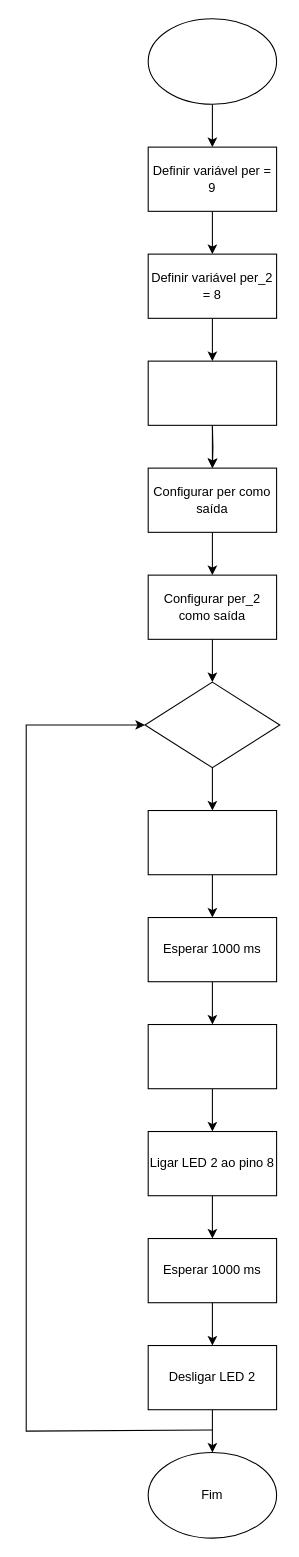
Image size: 299x1557. Some labels were removed from this diagram. Here are the shapes that lost their labels. From the top down, the box of each, then its label:
(147, 18, 277, 104): Início
(147, 360, 277, 425): Definir variável tempo = 1000
(144, 681, 280, 768): Repetir sempre
(147, 809, 277, 875): Ligar LED 1 ao pino 9
(147, 1023, 277, 1089): Desligar LED 1
